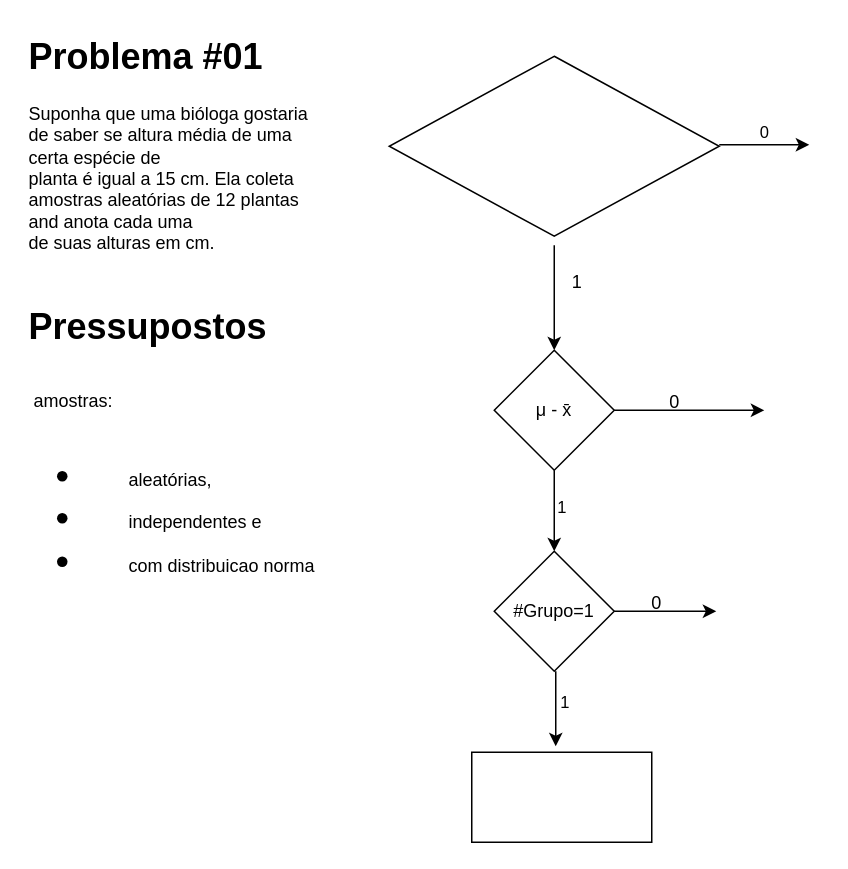
Image size: 848x869. Some labels were removed from this diagram. Here are the shapes that lost their labels. From the top down, the centre of each, then its label:
At pixel 553 145: "y=altura ϵ real e (n=12) > 5".
At pixel 561 796: "One Sample t-teste".
